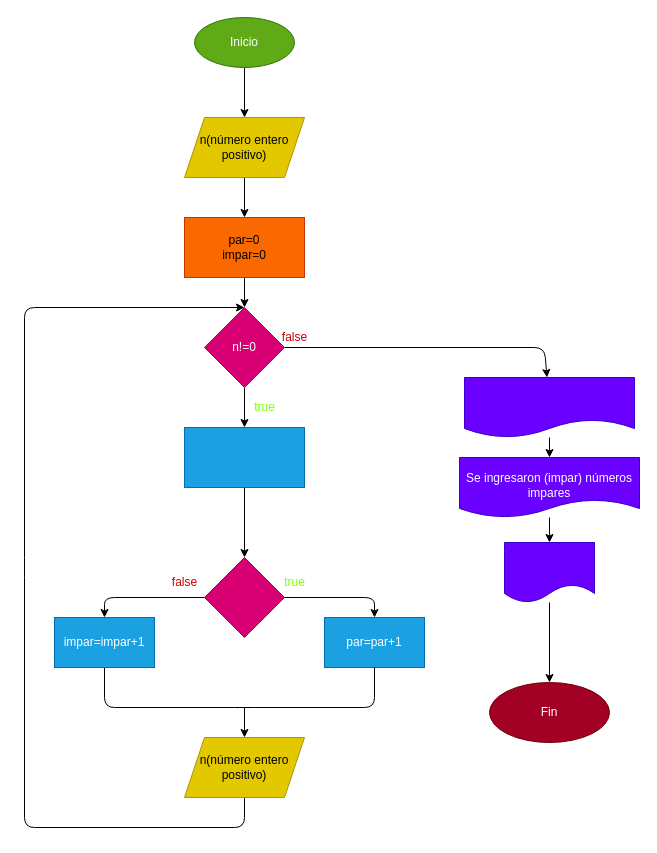
Image size: 657x853. Some labels were removed from this diagram. Each missing label, with the centre of its shape:
"Eso era..." belongs at [549,572].
"r==0" belongs at [244,597].
"r=n%2" belongs at [244,457].
"Se ingresaron (par) numeros pares" belongs at [549,407].
